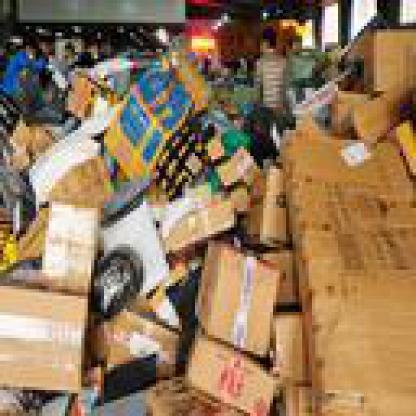CARDBOARD: (273, 127, 413, 413), (94, 169, 198, 374), (101, 52, 208, 185), (0, 266, 88, 390), (192, 237, 276, 358), (179, 325, 276, 413), (150, 108, 230, 202), (26, 126, 110, 214), (91, 306, 175, 380), (0, 361, 101, 413), (39, 198, 88, 290), (237, 159, 286, 244), (159, 195, 234, 247), (150, 370, 238, 413), (351, 85, 413, 143), (358, 26, 413, 91), (266, 306, 306, 384), (88, 351, 159, 393), (237, 101, 289, 153), (0, 211, 42, 273), (211, 146, 260, 195), (3, 113, 52, 162), (58, 65, 113, 107), (254, 247, 292, 302), (130, 283, 176, 328), (384, 110, 413, 178), (88, 387, 156, 413), (286, 46, 341, 78), (328, 88, 364, 133), (74, 91, 113, 130), (276, 377, 309, 413), (221, 127, 250, 156), (172, 29, 214, 49), (221, 179, 244, 211), (201, 130, 224, 156), (283, 84, 312, 100)
